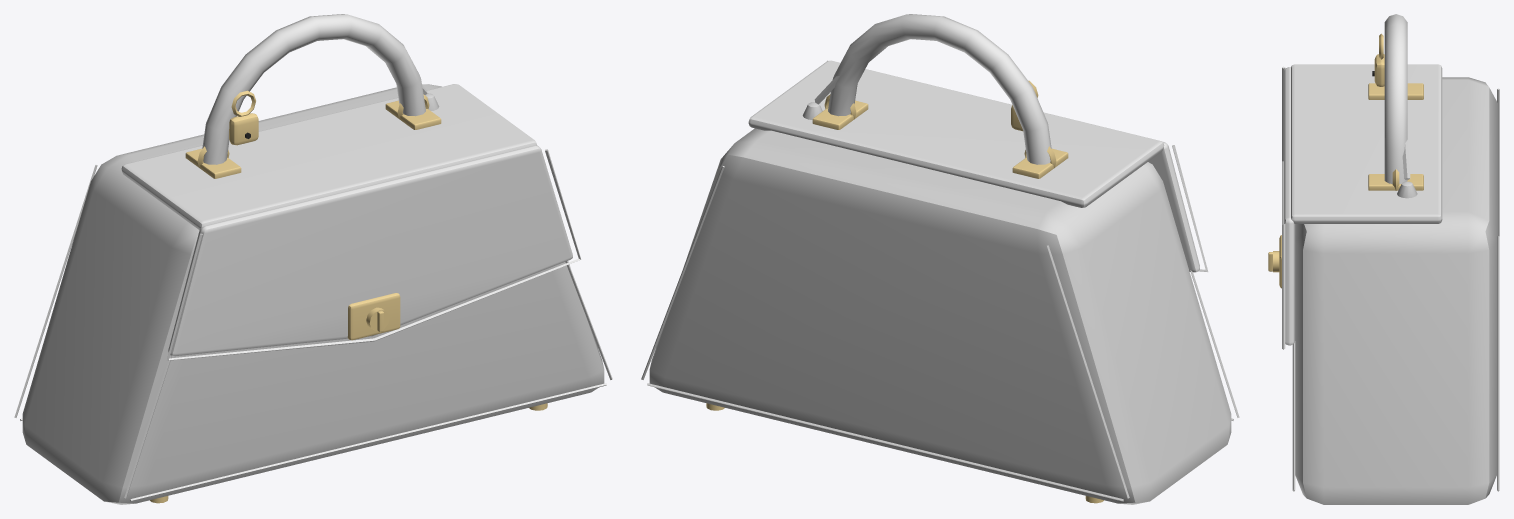
File: SM_Loot_Handbag.fbx
3 views of the same model, side by side, from view 1: azimuth 30°, elevation 25°; view 2: azimuth 150°, elevation 25°; view 3: azimuth 270°, elevation 25° (orthographic). The views are drawn at different scales.
Visible parts, largest first — view 1: SM_Loot_Handbag; view 2: SM_Loot_Handbag; view 3: SM_Loot_Handbag.
Part boxes in pixels (<box>): SM_Loot_Handbag: <box>14,14,612,504</box>; SM_Loot_Handbag: <box>641,14,1239,504</box>; SM_Loot_Handbag: <box>1268,14,1499,504</box>.
Bounding box in the file's own units: 28.99 × 22.75 × 12.49.
